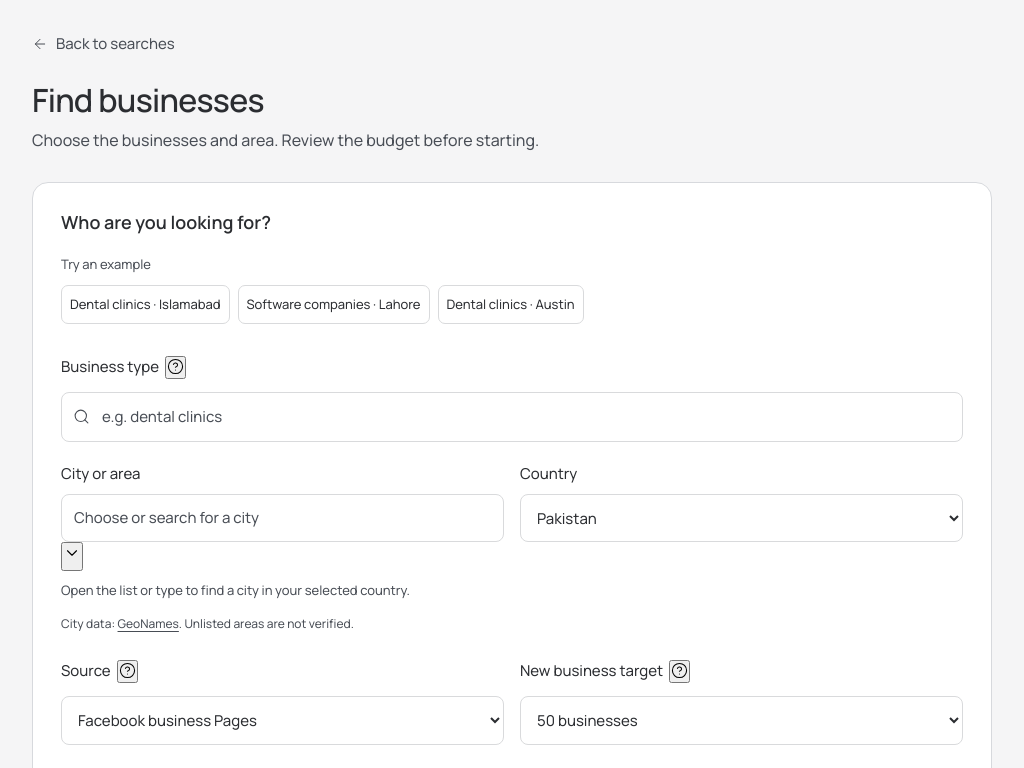
Test: Facebook selection exposes bounded discovery without submitting a paid request
Select "Facebook business Pages" in the 3rd dropdown: (282, 720) top-left (61, 696), bottom-right (504, 744)
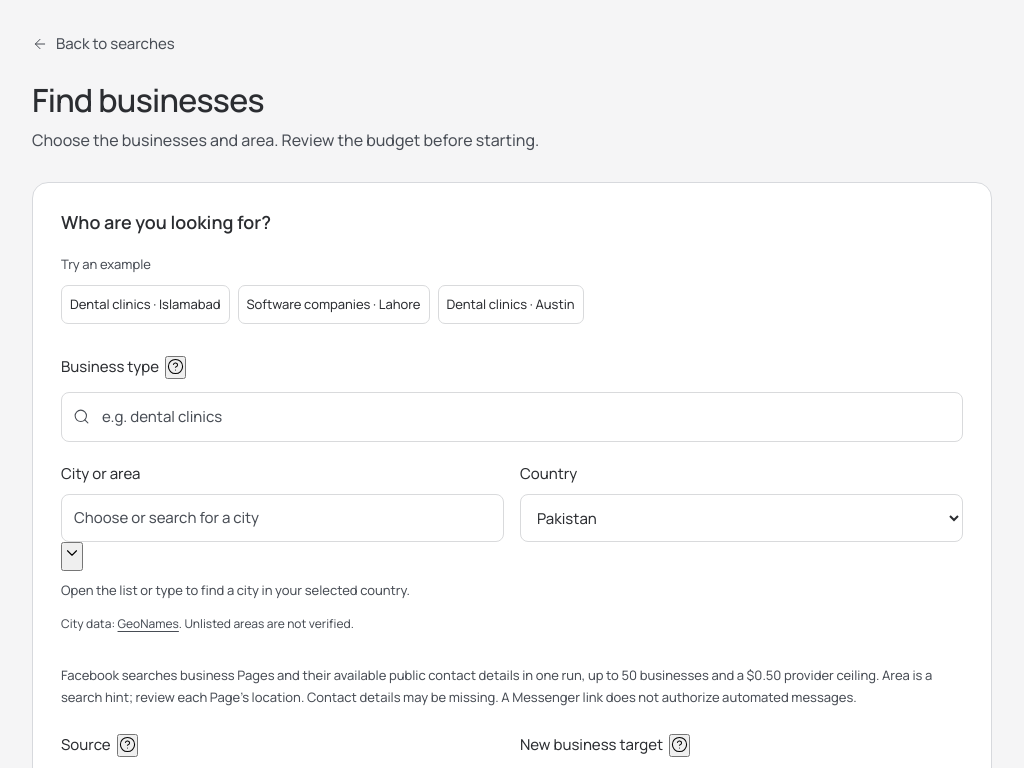
Now the text "A Messenger link does not authorize automated messages" is shown, box top-left (61, 666), bottom-right (932, 706)
